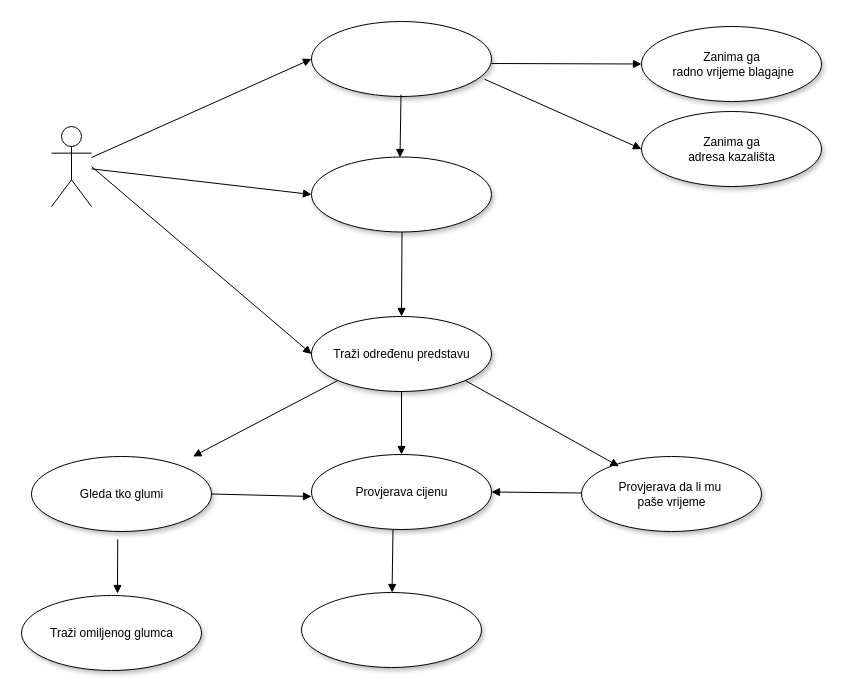
This 845x695 diagram has some shape labels left out. Each missing label, with the centre of its shape:
Gleda sve predstave: the point at 402,195
Klijent: the point at 71,166
Provjerava popuste/ pogodnosti: the point at 392,631
Traži određeno kazalište: the point at 402,60
